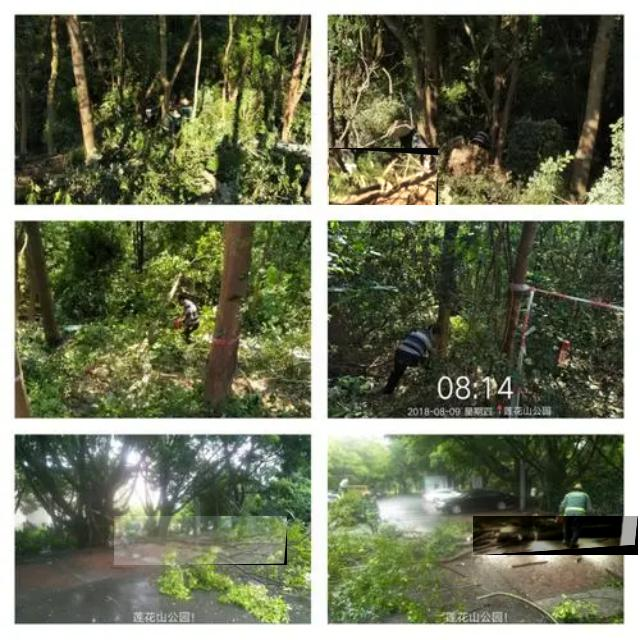Fallen Tree: (114, 516, 288, 566), (473, 516, 639, 556), (329, 148, 439, 206)
